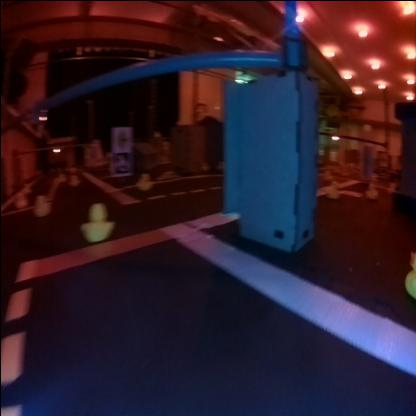Duckie: (78, 201, 112, 241), (404, 252, 414, 296), (32, 194, 50, 214), (135, 173, 151, 189), (12, 190, 26, 208), (329, 180, 338, 198), (366, 182, 376, 196), (69, 172, 78, 184)
Intersection sign: (115, 128, 128, 147)
QR code: (111, 150, 129, 172)
